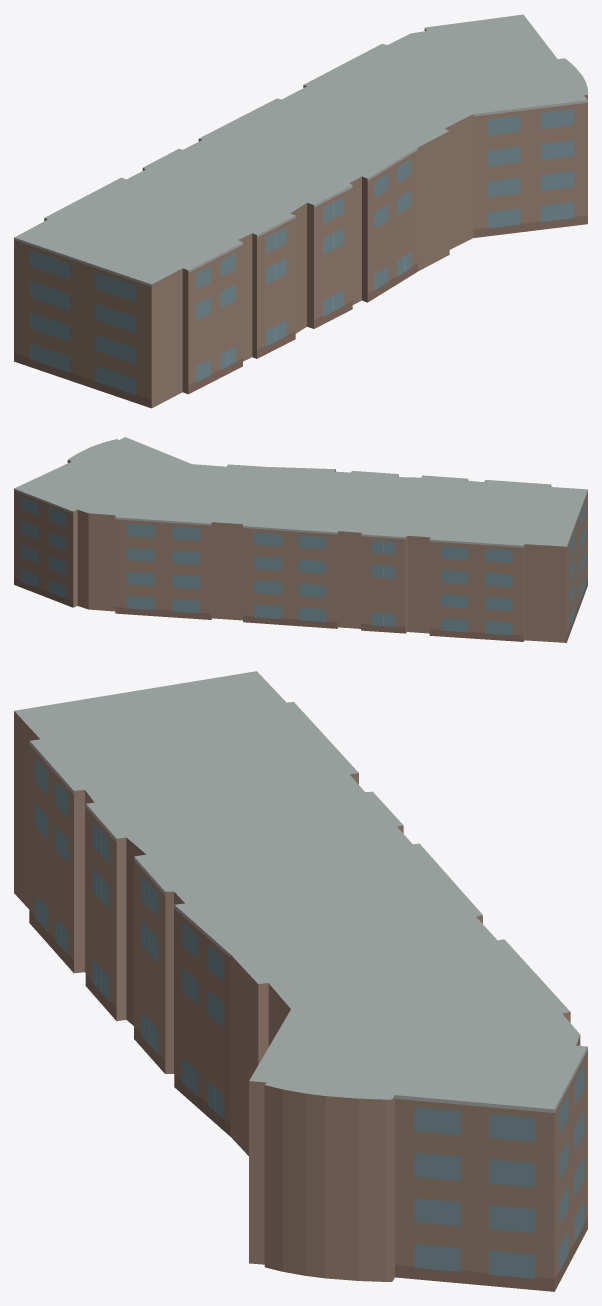
Rendered from survey-upis-32858200.glb.
3 views of the same model, one above another, from view 1: azimuth 30°, elevation 25°; view 2: azimuth 150°, elevation 25°; view 3: azimuth 270°, elevation 25° (orthographic). The views are drawn at different scales.
Parts seen in each view (by area): view 1: survey-upis-32858200.tmp; view 2: survey-upis-32858200.tmp; view 3: survey-upis-32858200.tmp.
Part boxes in pixels (<box>): survey-upis-32858200.tmp: <box>14,14,587,408</box>; survey-upis-32858200.tmp: <box>14,437,587,642</box>; survey-upis-32858200.tmp: <box>14,671,587,1291</box>.
Bounding box in the file's own units: 62.91 × 12.2 × 34.8.
